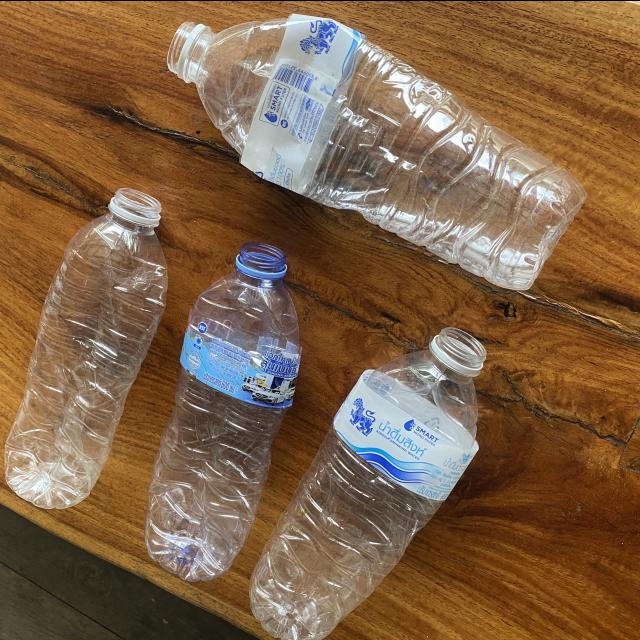plastik: (168, 14, 587, 289), (250, 326, 486, 640), (145, 242, 302, 580), (5, 187, 168, 508)
